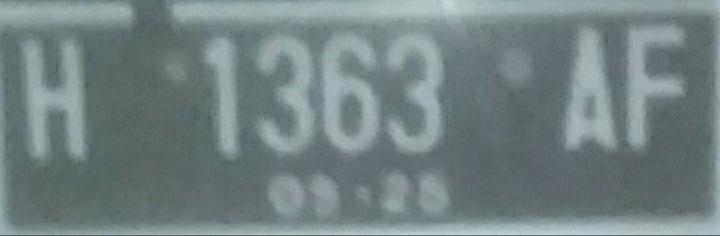1: (193, 30, 247, 163)
3: (383, 29, 456, 159), (246, 33, 316, 162)
6: (315, 32, 384, 160)
A: (552, 19, 621, 161)
F: (621, 17, 701, 160)
H: (12, 28, 99, 171)
